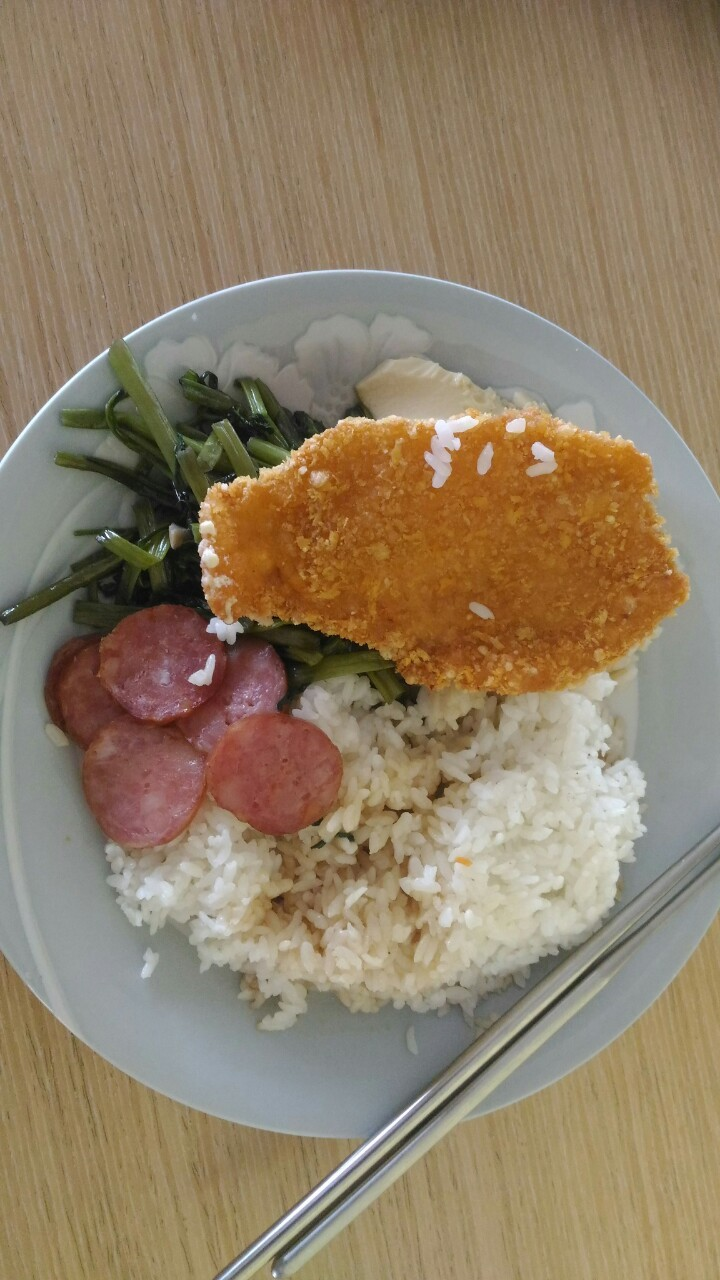chinese_sausage: (44, 621, 319, 837)
rice: (338, 696, 604, 998)
water_spinach: (89, 398, 225, 598)
